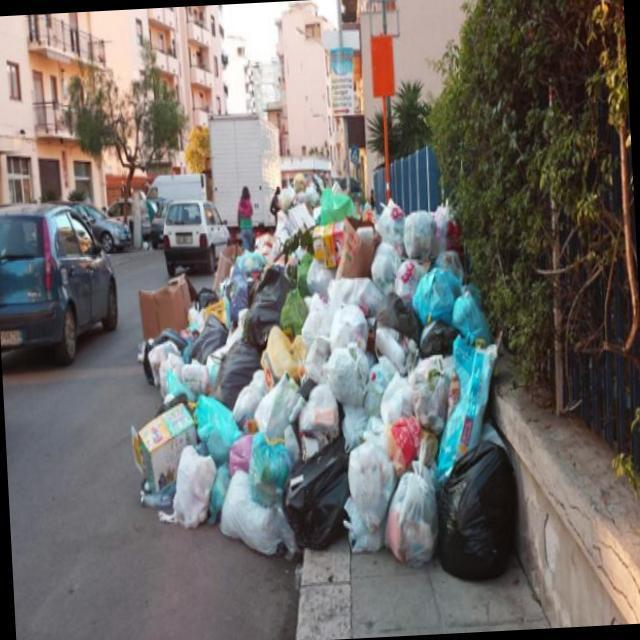garbage: (141, 158, 524, 604)
